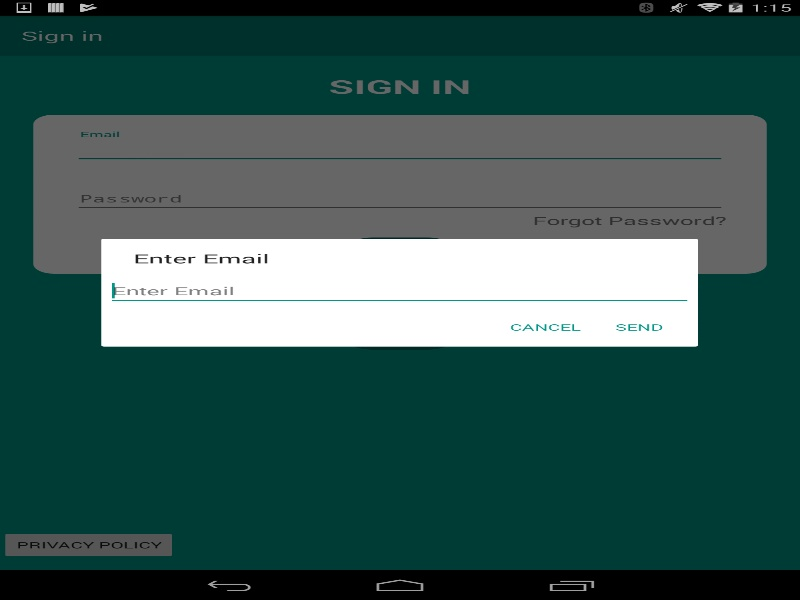Button: (494, 310, 596, 344), (596, 310, 682, 344)
Input: (106, 276, 692, 305)
